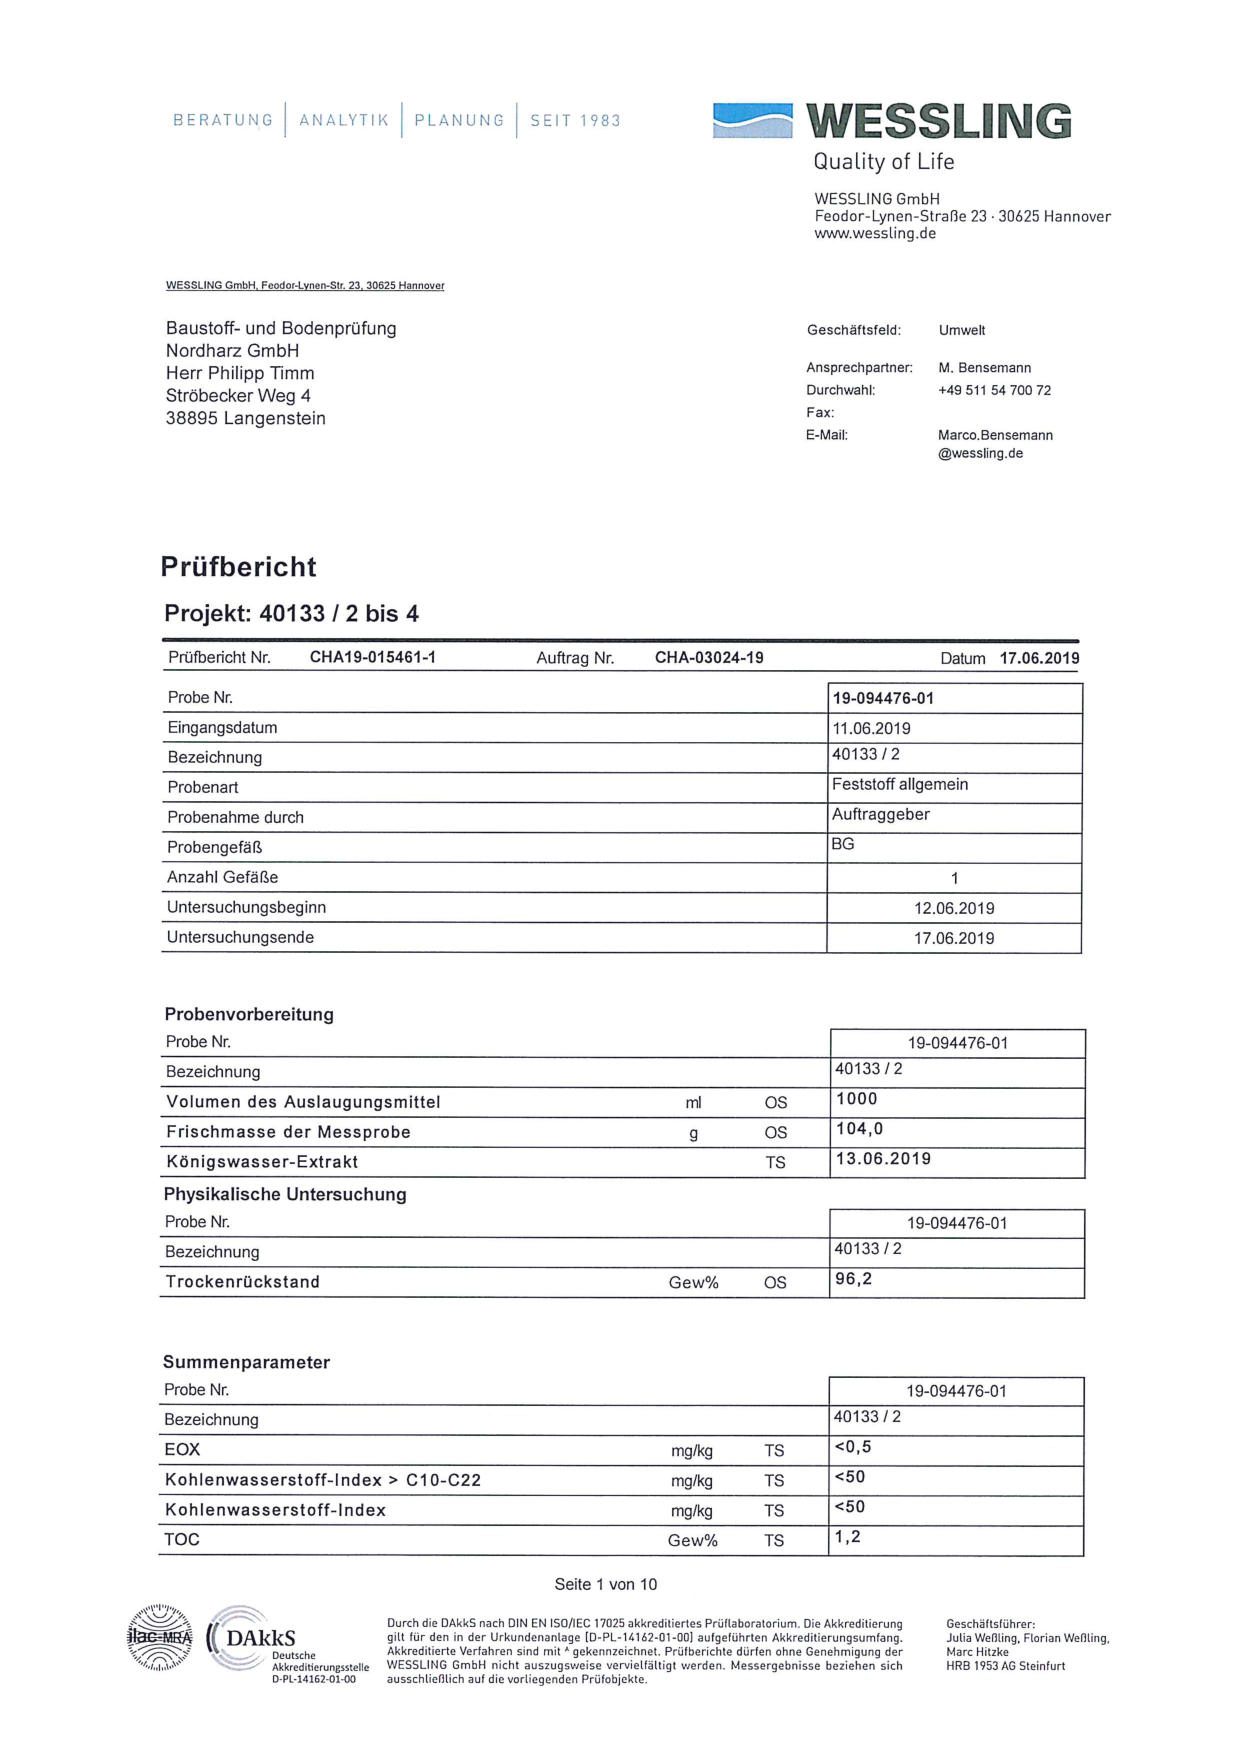table: (146, 629, 1106, 968), (153, 1347, 1099, 1569), (132, 997, 1103, 1181), (125, 1204, 1117, 1338)
